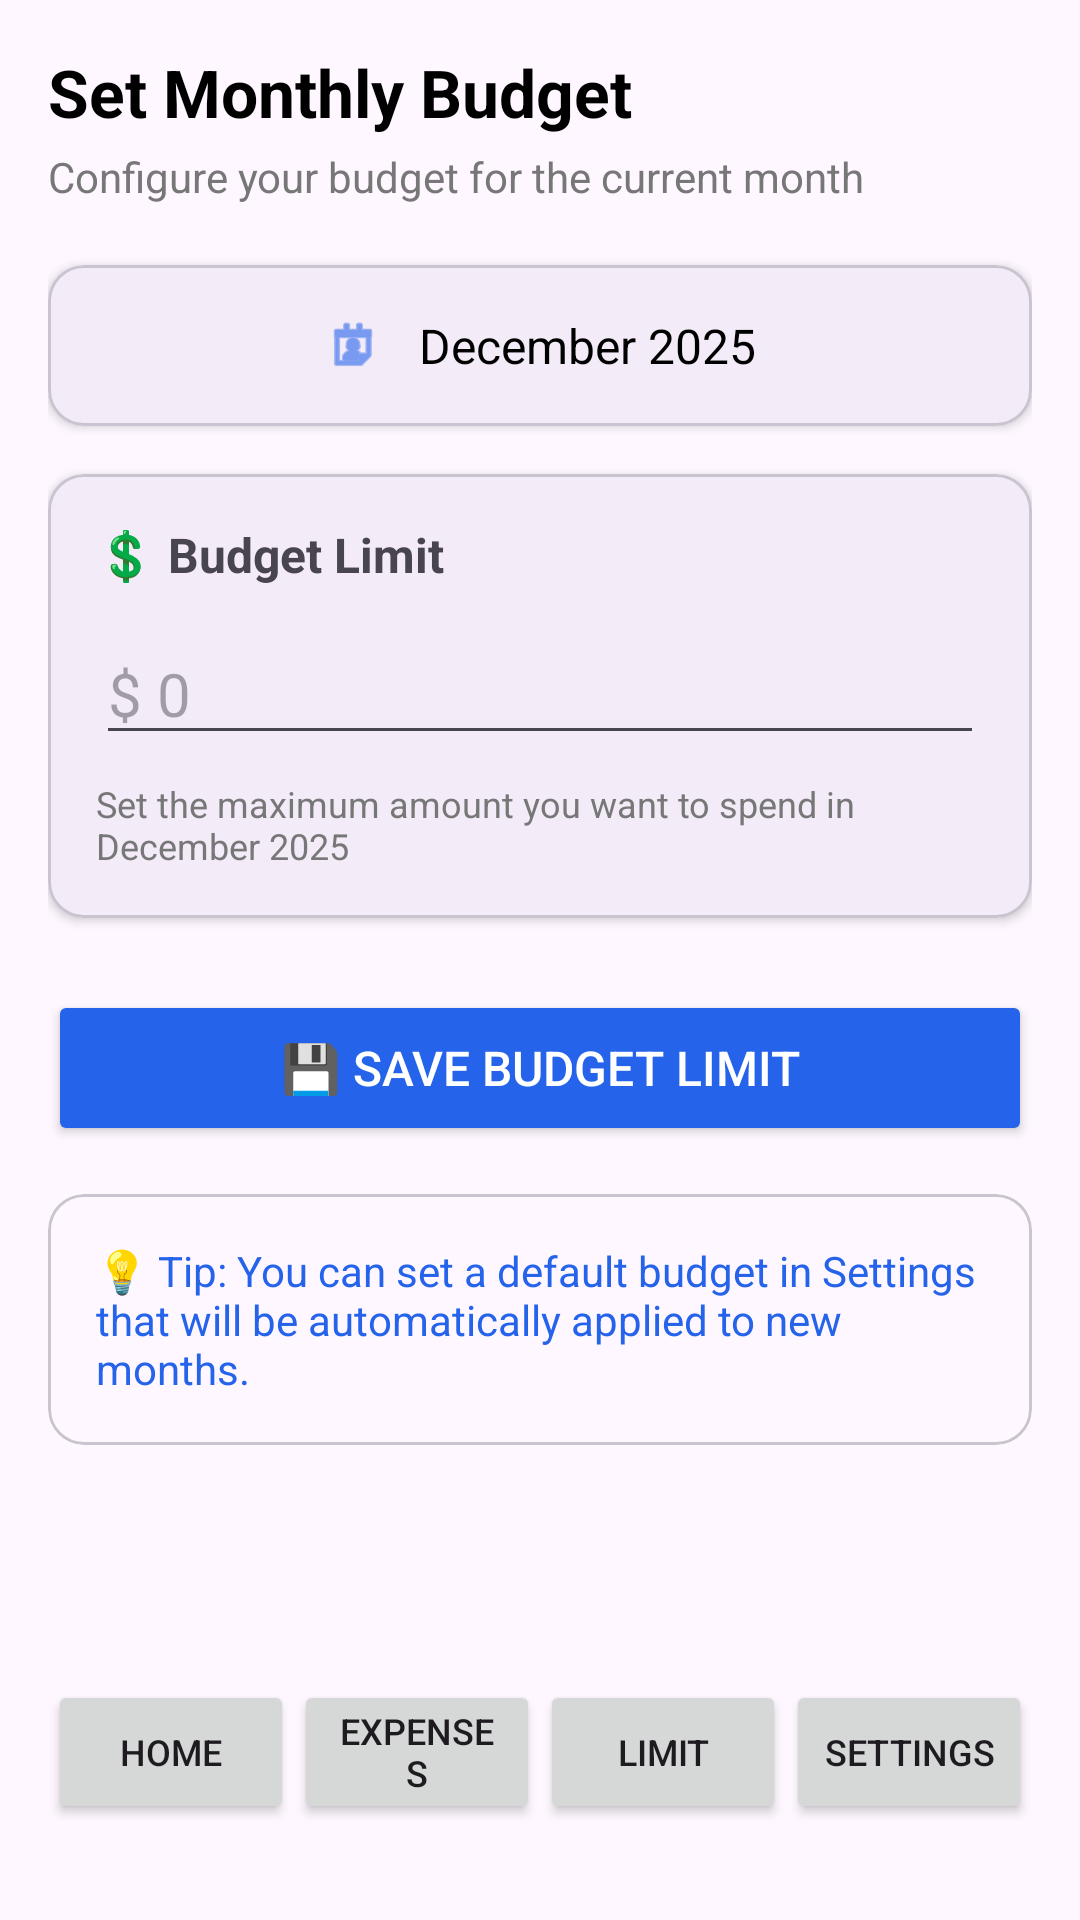

Named icons in this screenshot (1080 x 1920) and their bounding boxes, (x1, y1, x2, y2):
calendar: (334, 322, 372, 366)
